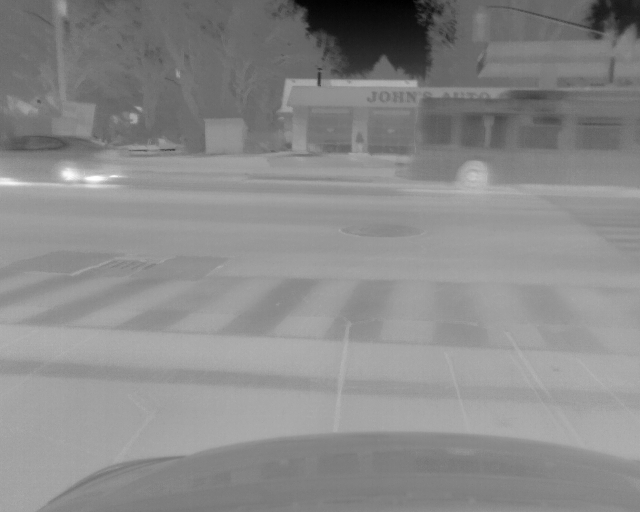car: (407, 88, 640, 190), (1, 131, 128, 188)
